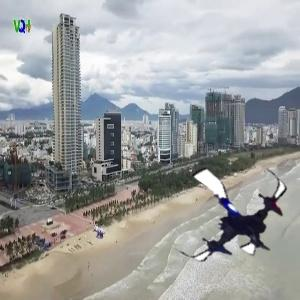drone: (166, 151, 294, 279)
